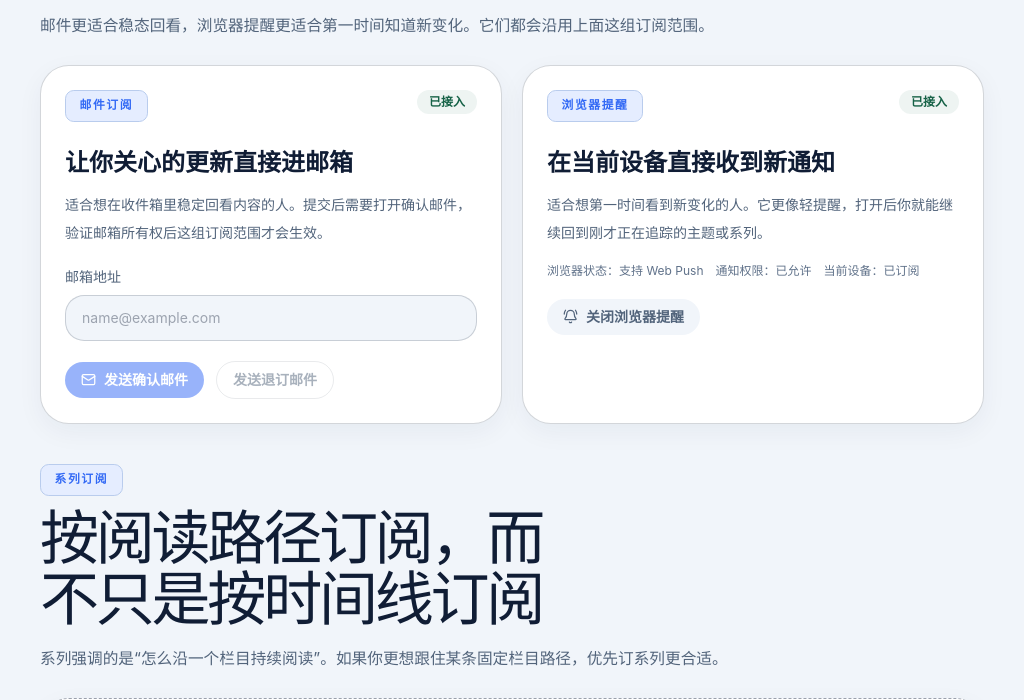
Test: sends the subscription auth key as proof of possession when unsubscribing
The width and height of the screenshot is (1024, 700).
(page scrolled)
Click the button "关闭浏览器提醒" at {"x": 624, "y": 317}, box [547,299,700,335]
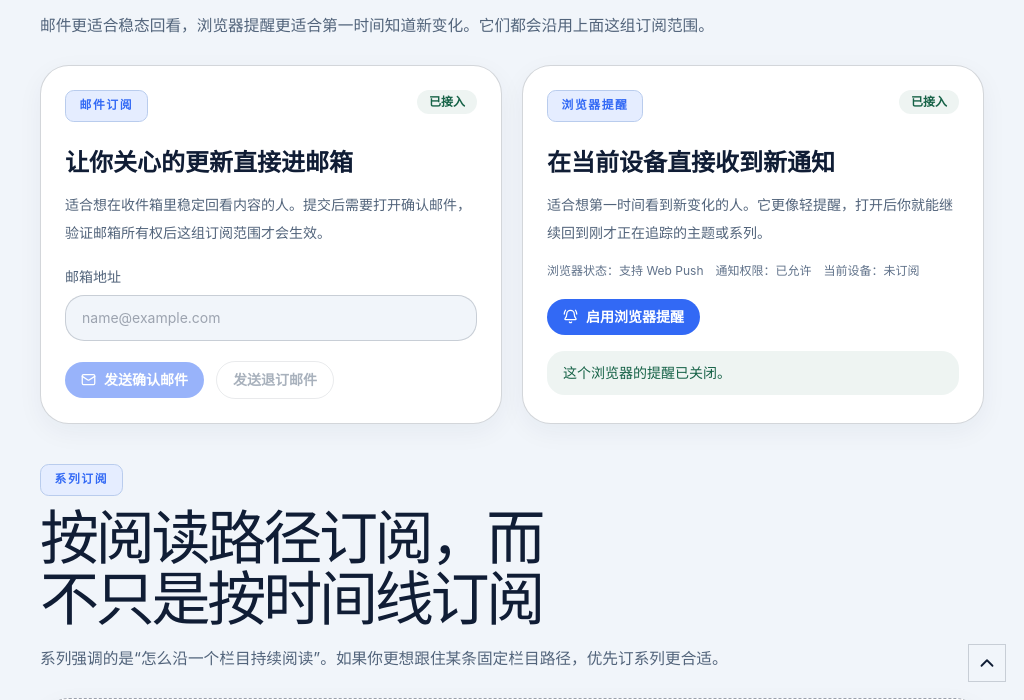
Check: the text "这个浏览器的提醒已关闭。" is shown, box [547,351,959,395]
